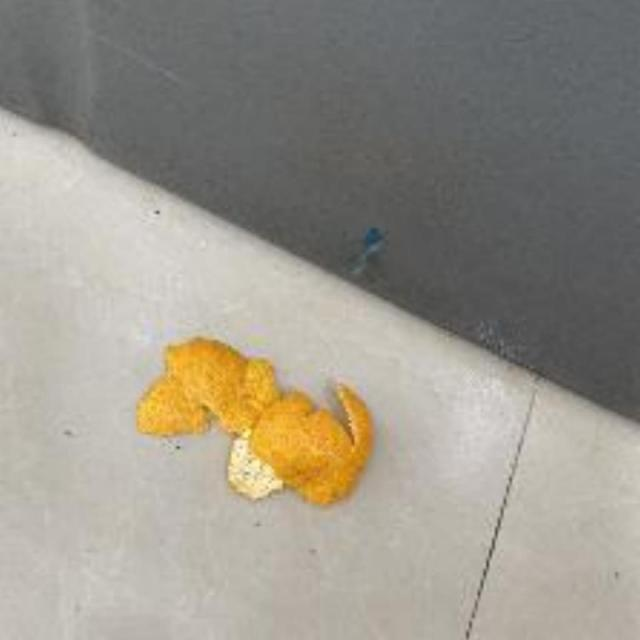orange-peel: (129, 335, 374, 507)
